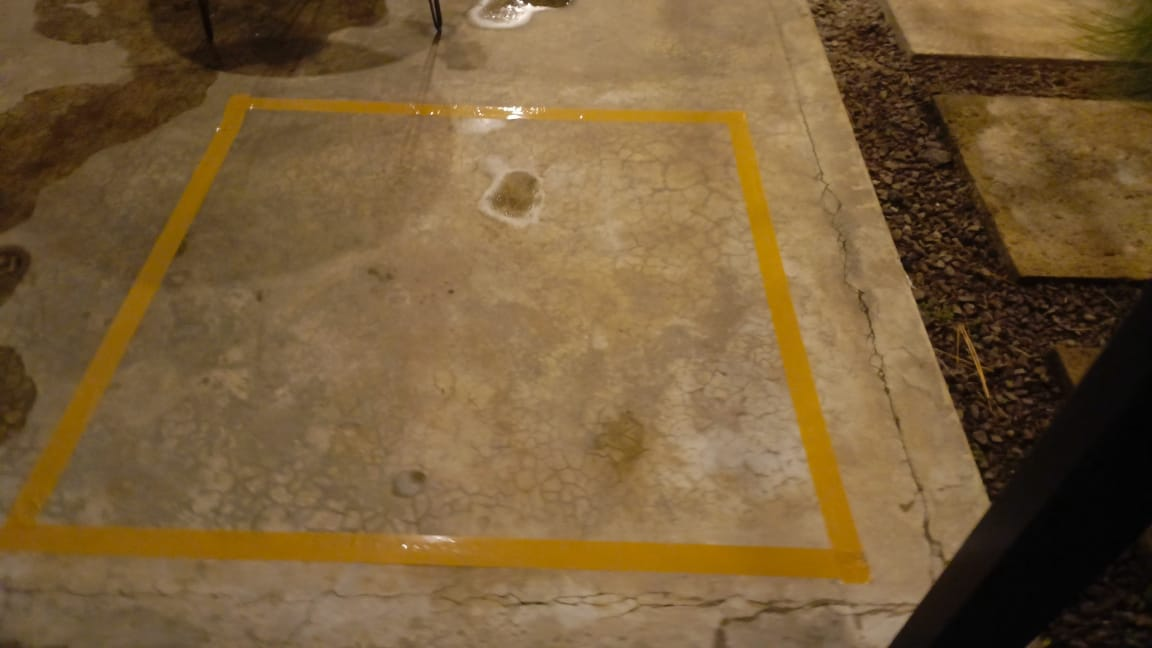floor marking: (0, 96, 869, 583)
